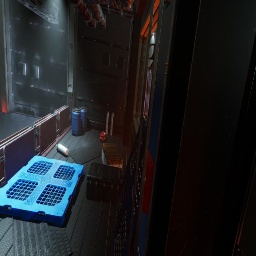0: (56, 144, 69, 156)
FireAlarm ,: (142, 150, 154, 215)
FirstAidBox ,: (100, 131, 106, 141)
